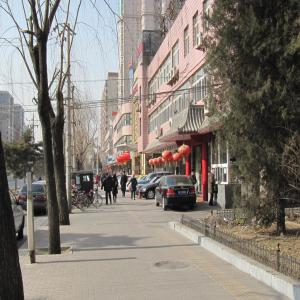Vehicle-registration-plate: (26, 193, 37, 202), (179, 189, 188, 197)
